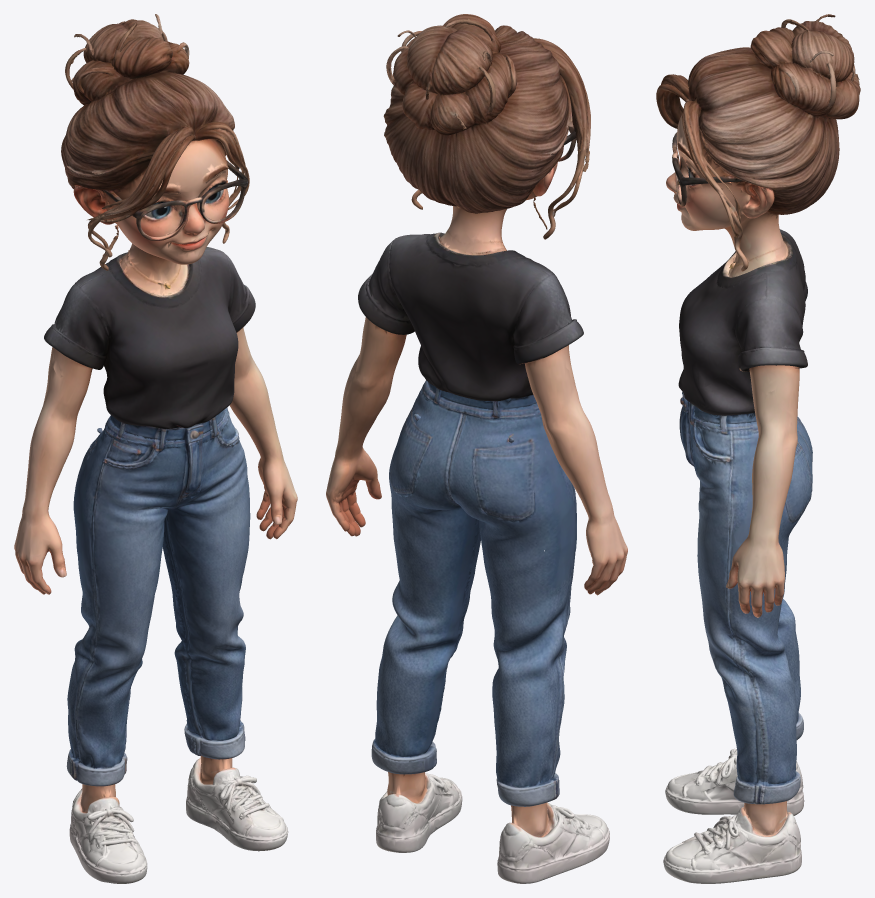
File: lisa-tripo.glb
3 renders of one model, left to right at view 1: azimuth 30°, elevation 25°; view 2: azimuth 150°, elevation 25°; view 3: azimuth 270°, elevation 25°, orthographic. The views are drawn at different scales.
Visible parts, largest first — view 1: tripo_node_36475c03-750b-42af-828d-bd717a9ab01b; view 2: tripo_node_36475c03-750b-42af-828d-bd717a9ab01b; view 3: tripo_node_36475c03-750b-42af-828d-bd717a9ab01b.
Boxes of the visible parts, bbox=[...] form: tripo_node_36475c03-750b-42af-828d-bd717a9ab01b: bbox=[14, 14, 297, 883]; tripo_node_36475c03-750b-42af-828d-bd717a9ab01b: bbox=[326, 14, 627, 883]; tripo_node_36475c03-750b-42af-828d-bd717a9ab01b: bbox=[656, 14, 860, 883].
Size of the model in its own units: 0.3509 by 0.9792 by 0.2232.
1 material, 1 textured.
